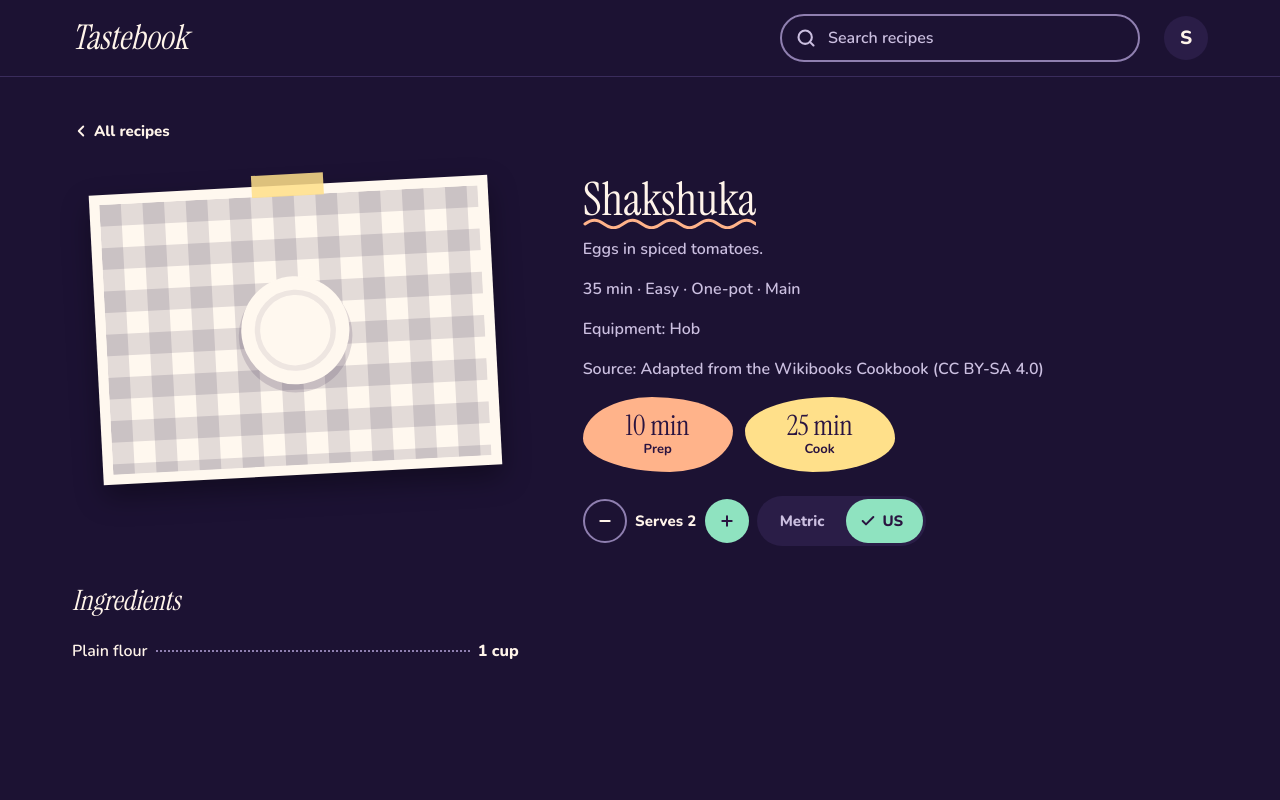
RecipePage › switches units for this visit only, without saving them on the account
Click the radio button labelled "Metric" at coordinates (802, 521), box [780,511,824,531]
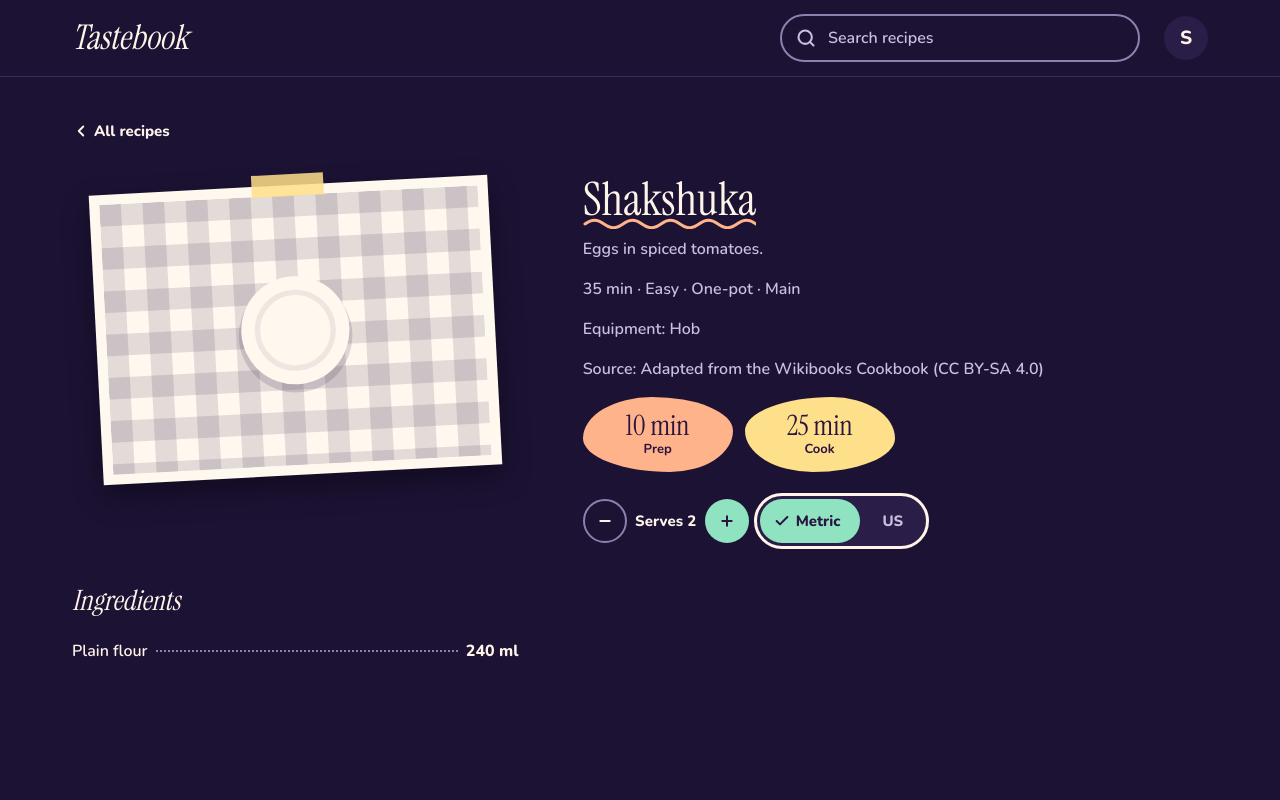
Result: the radio button labelled "Metric" is checked at [760,499,860,543]
Result: the text "240 ml" is shown at [466,639,519,663]
